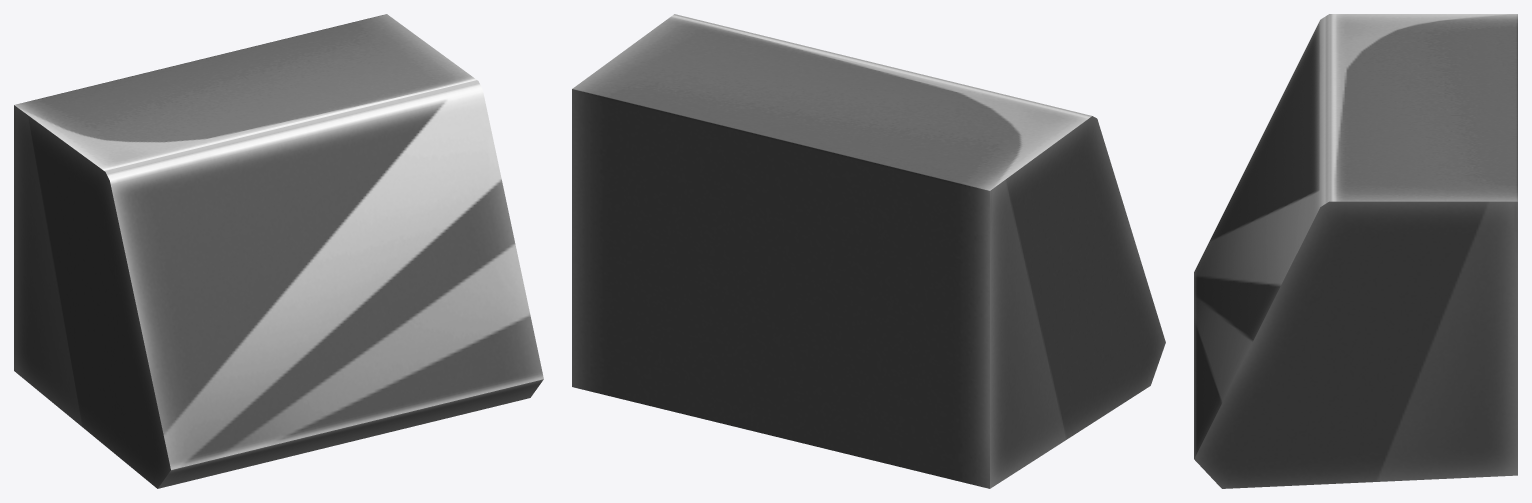
File: scenes_construction_coinglass01a.FBX
3 views of the same model, side by side, from view 1: azimuth 30°, elevation 25°; view 2: azimuth 150°, elevation 25°; view 3: azimuth 270°, elevation 25° (orthographic). The views are drawn at different scales.
Visible parts, largest first — view 1: scenes_construction_coinglass01a; view 2: scenes_construction_coinglass01a; view 3: scenes_construction_coinglass01a.
Part boxes in pixels (x1=…): scenes_construction_coinglass01a: x1=14, y1=14, x2=543, y2=488; scenes_construction_coinglass01a: x1=572, y1=14, x2=1165, y2=488; scenes_construction_coinglass01a: x1=1194, y1=14, x2=1517, y2=488.
Size of the model in its own units: 1217 by 870 by 888.
